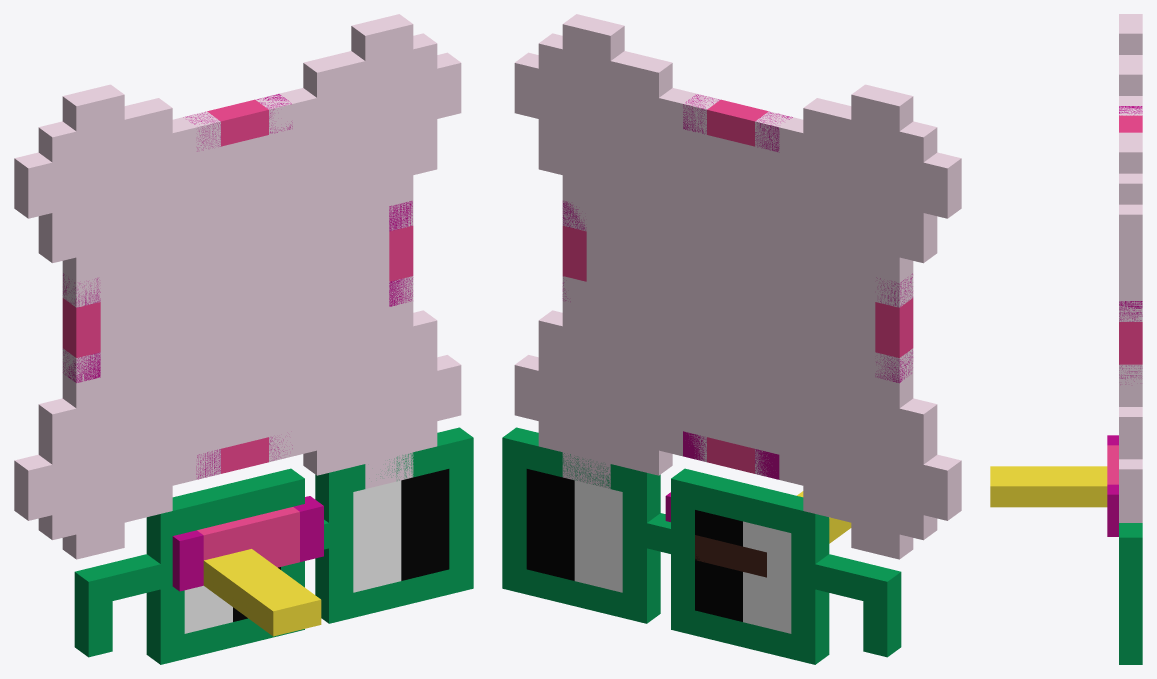
Rendered from flower.glb.
3 views of the same model, side by side, from view 1: azimuth 30°, elevation 25°; view 2: azimuth 150°, elevation 25°; view 3: azimuth 270°, elevation 25° (orthographic). The views are drawn at different scales.
Visible parts, largest first — view 1: p1, glasses, layer-2, p2, p2-1, circle-12, p2-2; view 2: p1, glasses, layer-2, p2, mouth; view 3: p1, circle-12, glasses, p2, p2-1.
Boxes of the visible parts, x1,y1,x2,y2 form: p1: [14, 14, 461, 559]; glasses: [74, 427, 473, 664]; layer-2: [184, 469, 449, 633]; p2: [62, 94, 413, 479]; p2-1: [172, 496, 323, 591]; circle-12: [203, 549, 321, 636]; p2-2: [221, 512, 299, 565]; p1: [514, 14, 961, 559]; glasses: [502, 427, 901, 664]; layer-2: [526, 469, 791, 633]; p2: [562, 94, 913, 479]; mouth: [695, 535, 766, 577]; p1: [1119, 14, 1142, 522]; circle-12: [990, 466, 1107, 507]; glasses: [1119, 523, 1142, 664]; p2: [1119, 106, 1142, 384]; p2-1: [1107, 435, 1118, 536].
Bounding box in the file's own units: 18.5 × 23 × 6.5.
12 materials, 12 textured.
